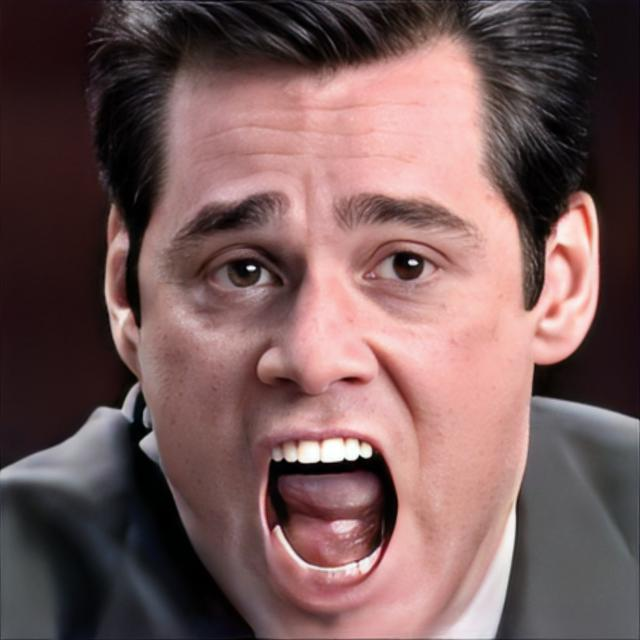fear: (137, 40, 531, 629)
